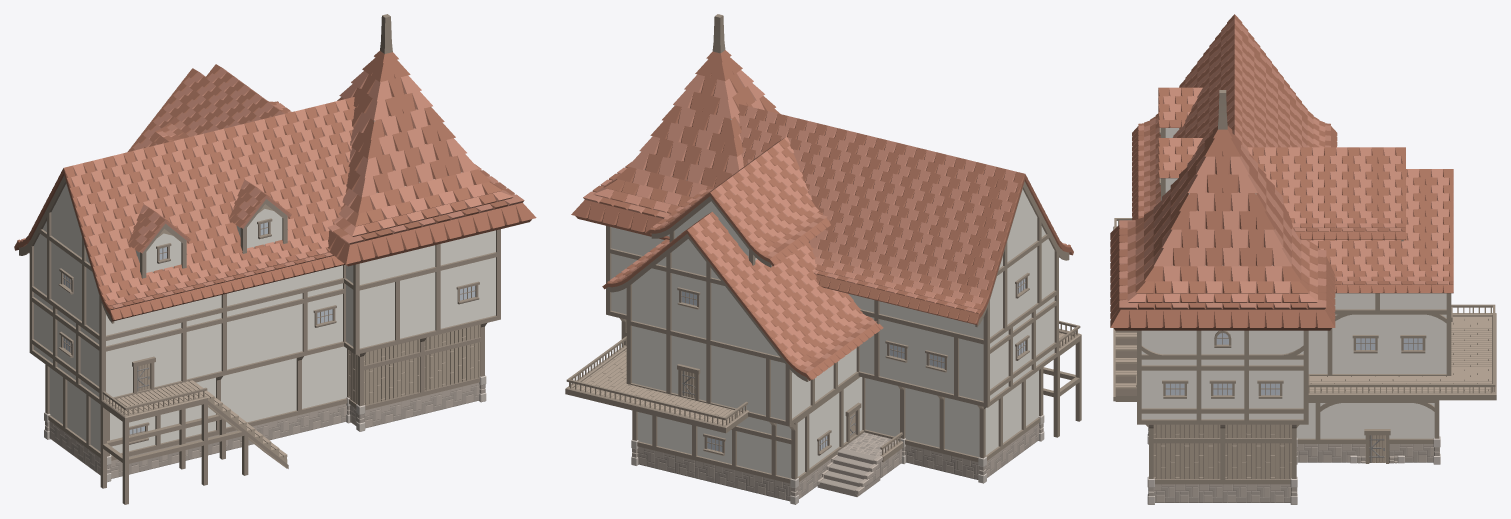
The model's file is house3.glb.
3 views of the same model, side by side, from view 1: azimuth 30°, elevation 25°; view 2: azimuth 150°, elevation 25°; view 3: azimuth 270°, elevation 25° (orthographic). The views are drawn at different scales.
Parts seen in each view (by area): view 1: house 3; view 2: house 3; view 3: house 3.
Part boxes in pixels (left/top/right/bottom): house 3: left=14, top=14, right=536, bottom=504; house 3: left=565, top=14, right=1081, bottom=504; house 3: left=1110, top=14, right=1496, bottom=504.
Bounding box in the file's own units: 20.42 × 17.89 × 16.22.
